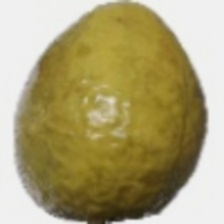guava: (46, 40, 213, 190)
